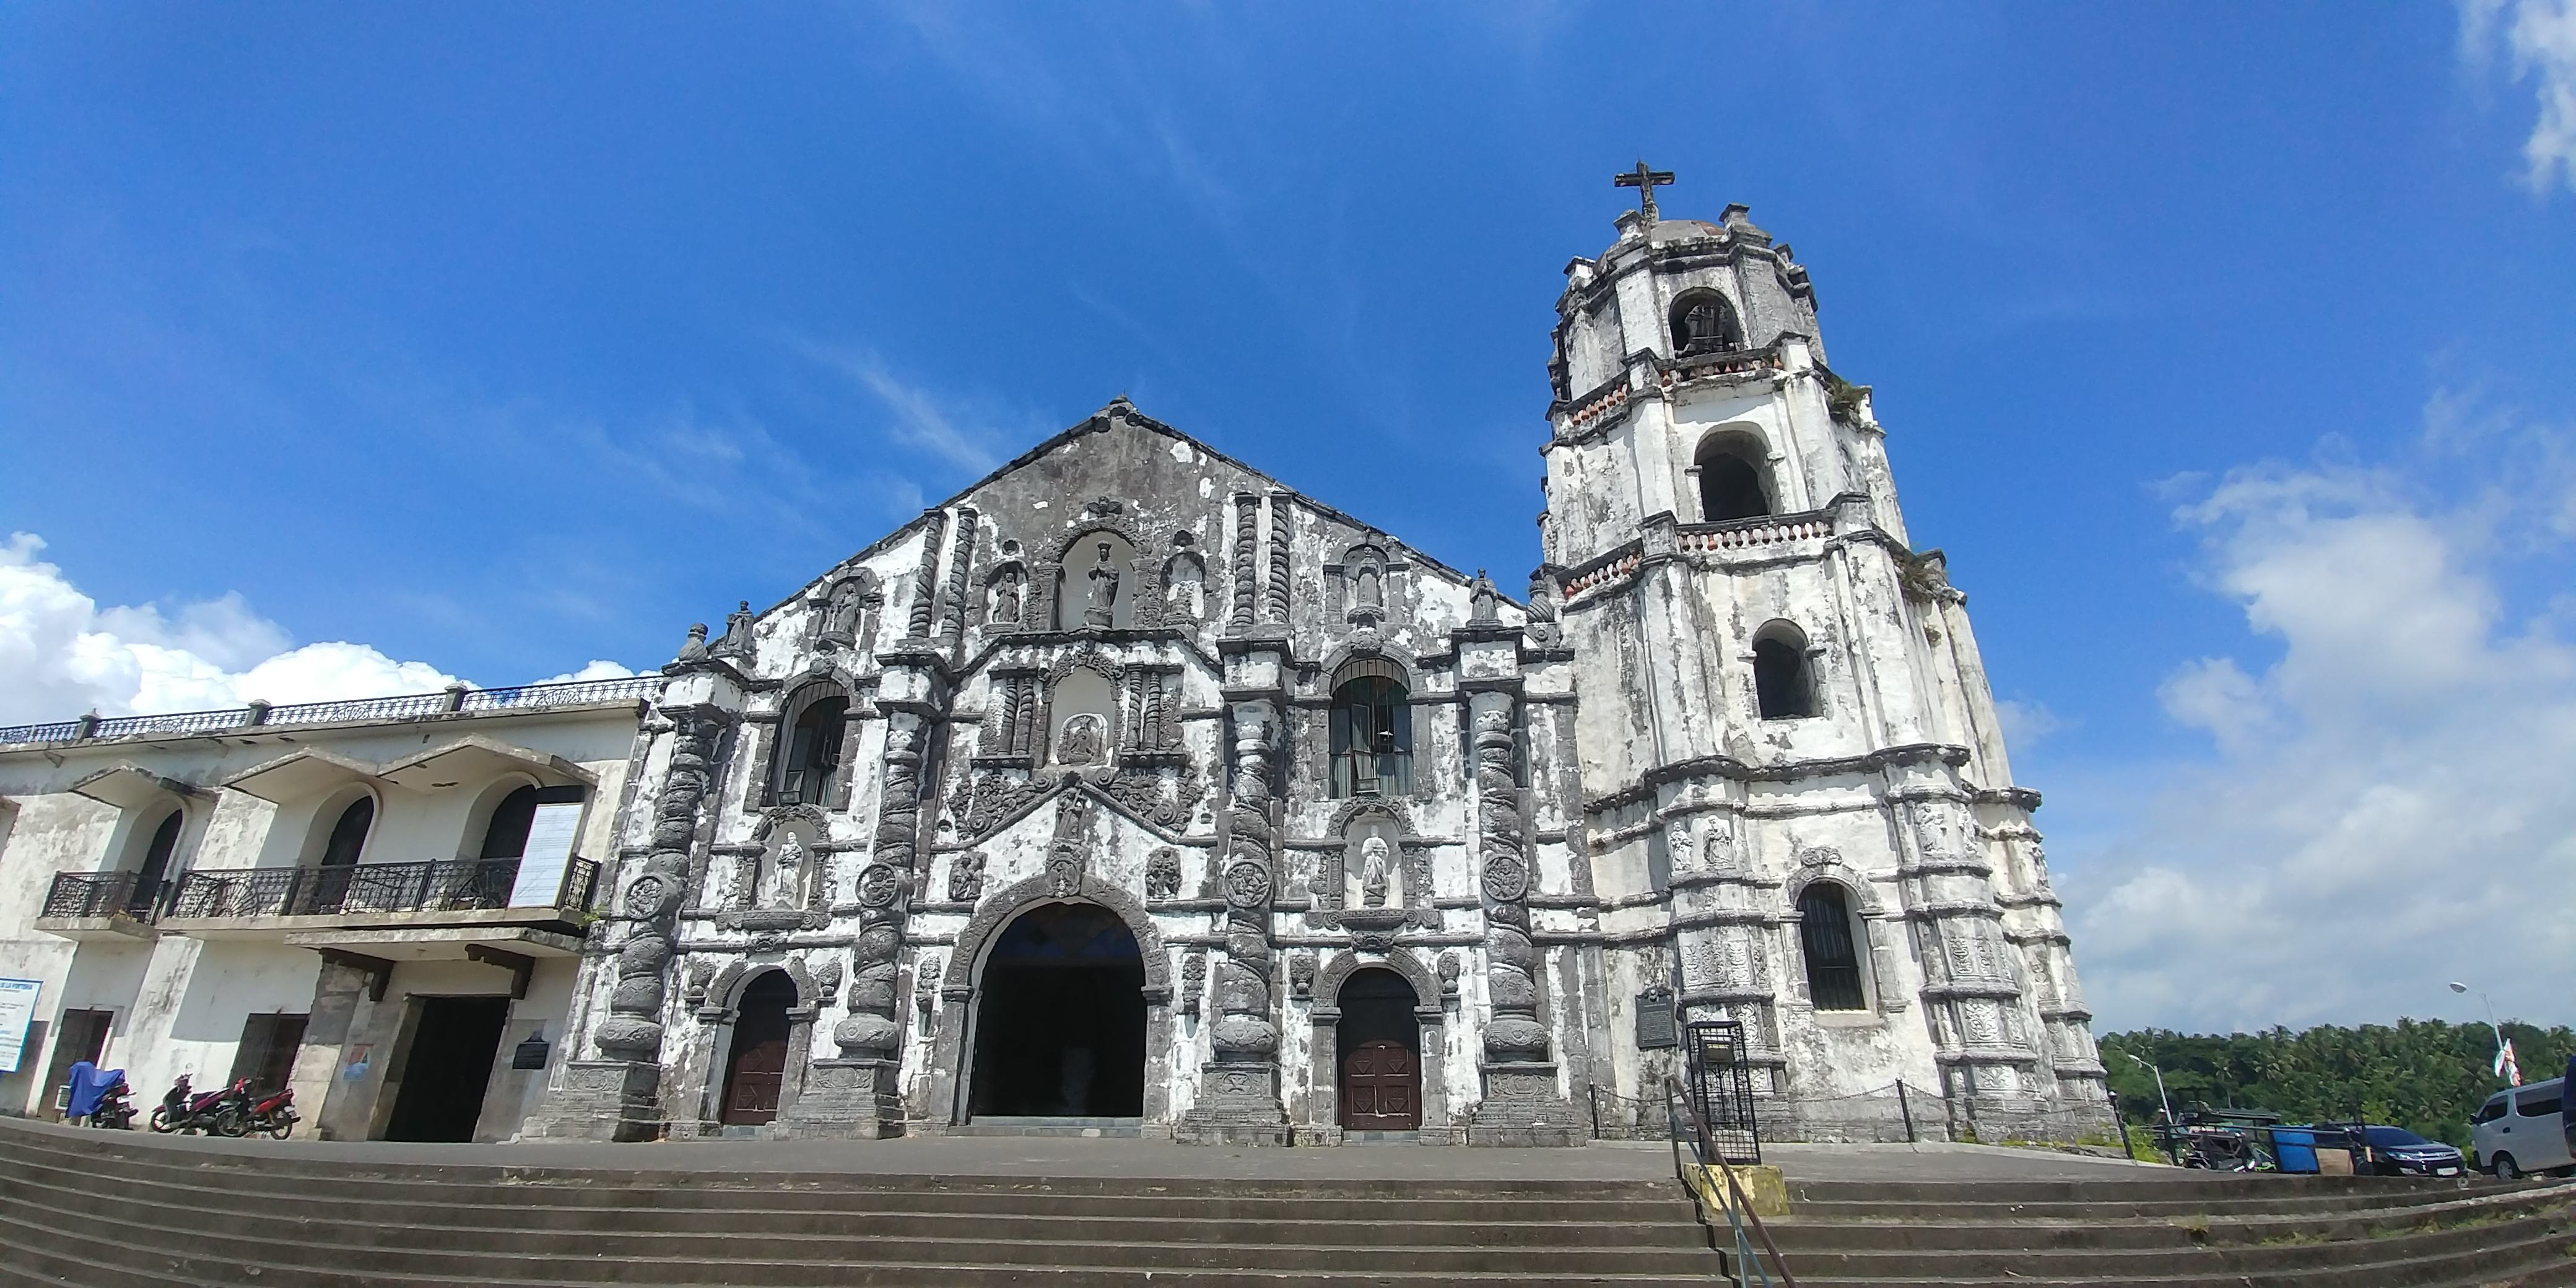daraga_church_daraga_albay: (590, 151, 2139, 1168)
